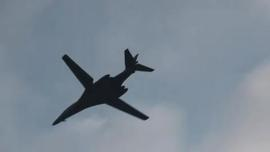aircraft: (51, 47, 155, 125)
